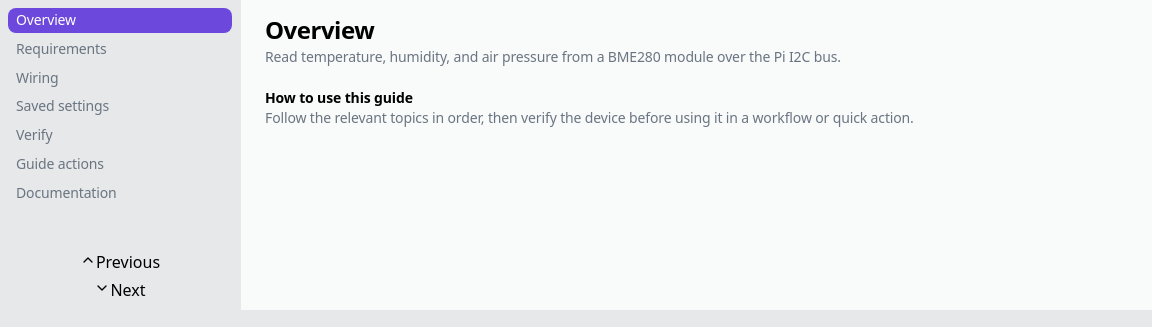
StandardDeviceSetupGuide › moves between guide topics with previous and next controls
expect the button "Previous" is disabled: met, box [8,250,232,274]
Click the button "Next".
click(120, 290)  # box [8,278,232,302]
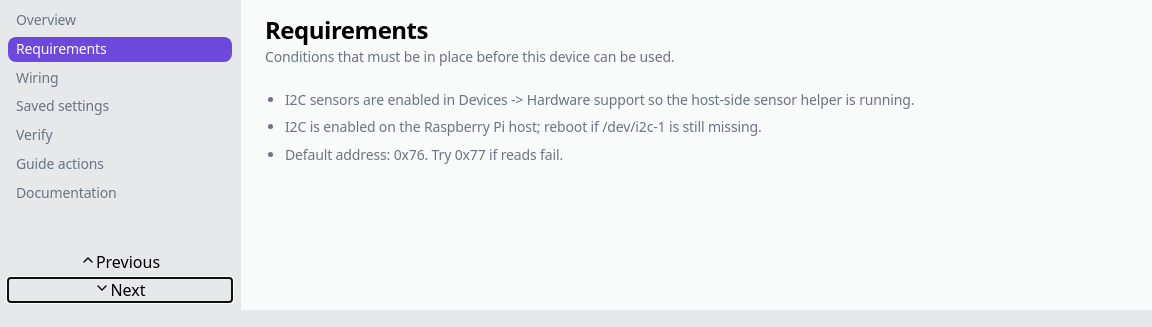
expect the heading "Requirements" is shown: met, box [265,13,428,46]
Click the button "Previous".
click(120, 262)  # box [8,250,232,274]
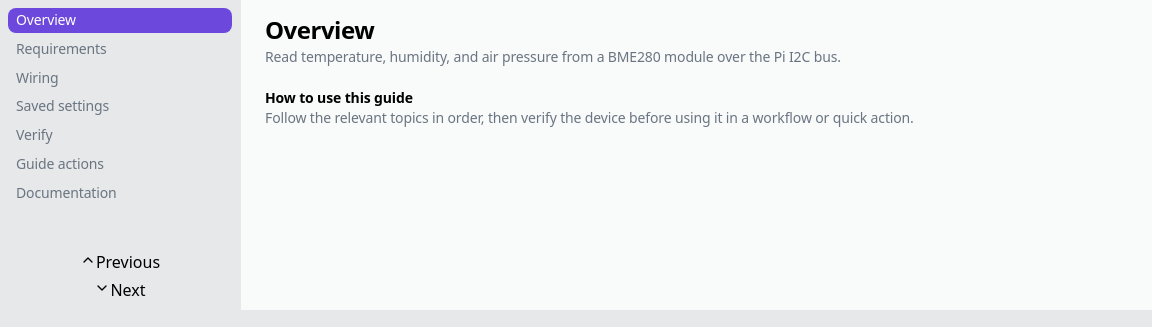
expect the heading "Overview" is shown: met, box [265,13,374,46]
